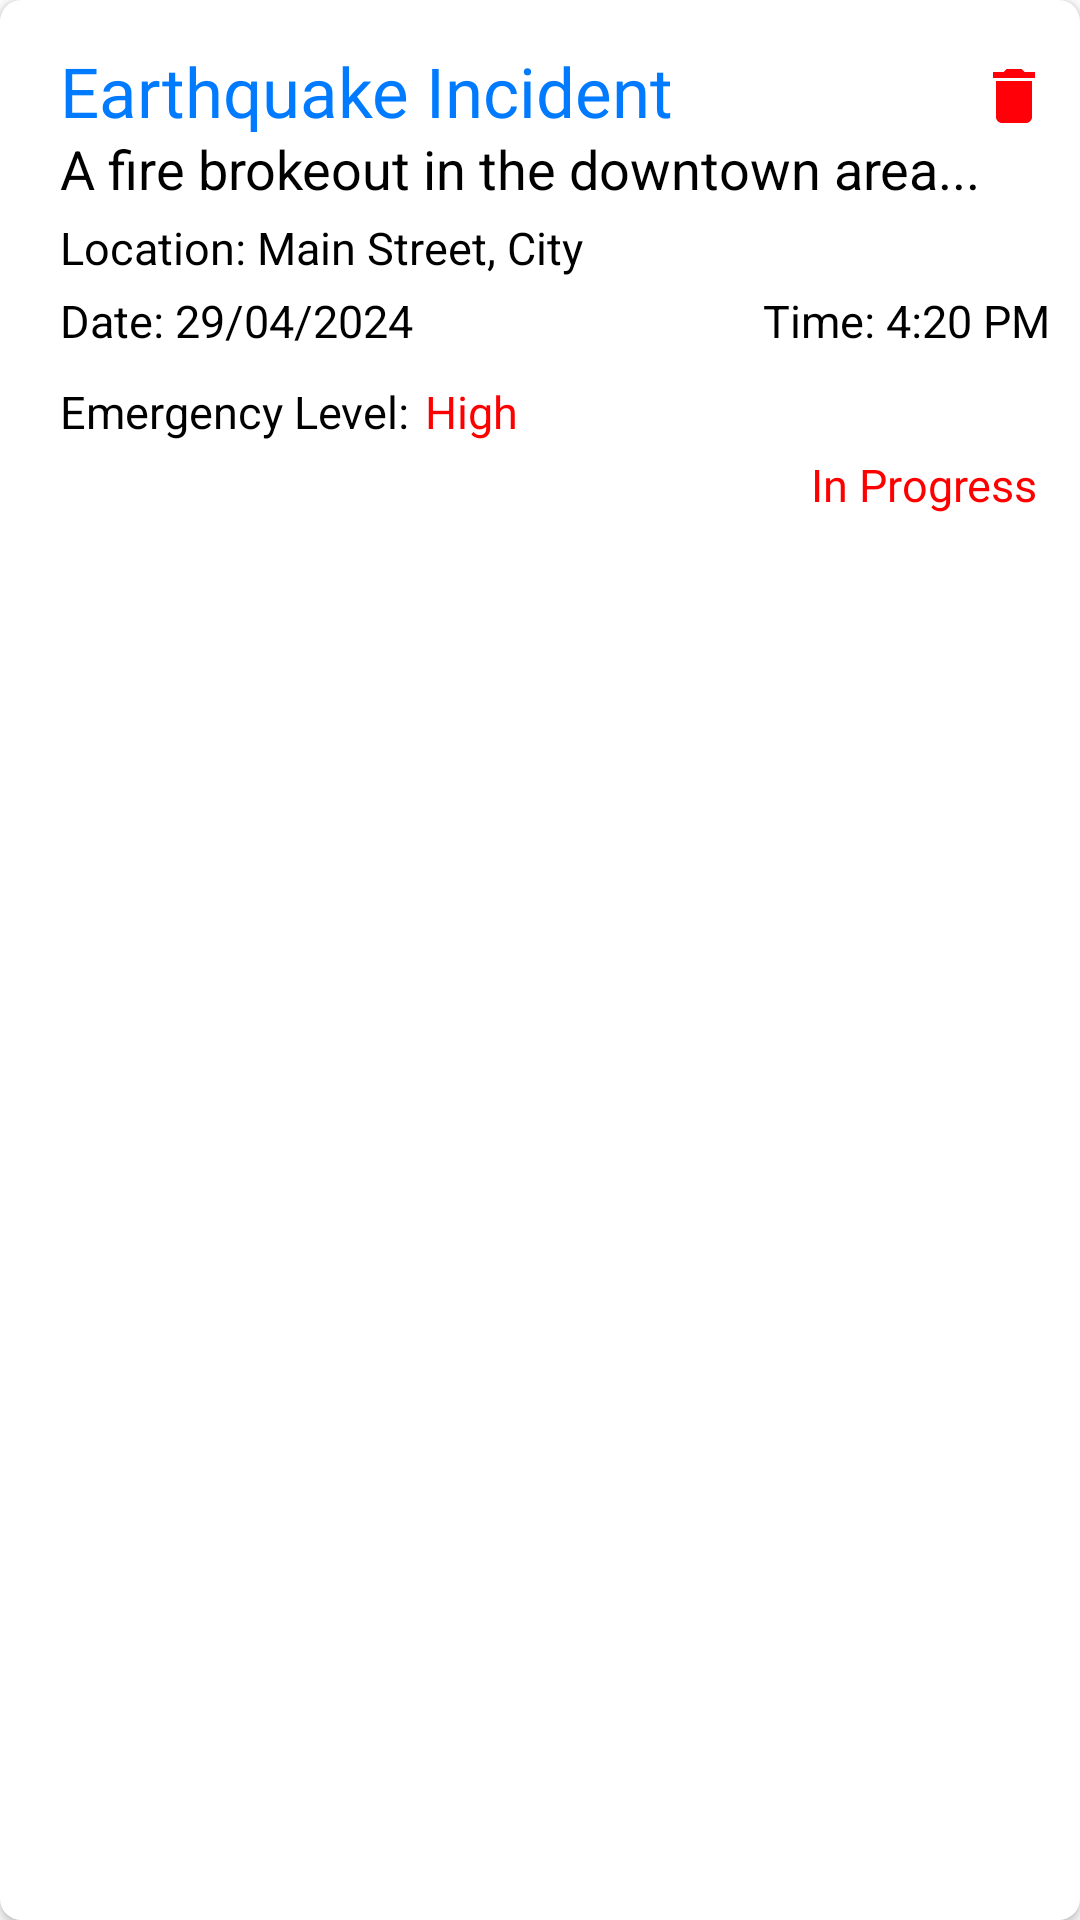

Named icons in this screenshot (1080px×1920px) and their centers, (x,y):
delete: (1014,96)
